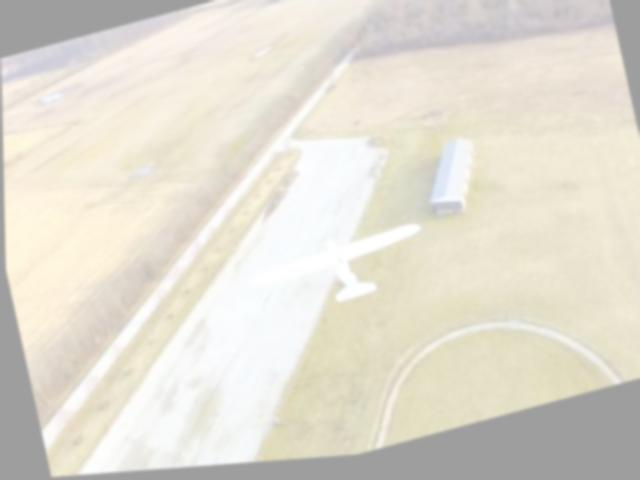uav: (233, 215, 443, 339)
